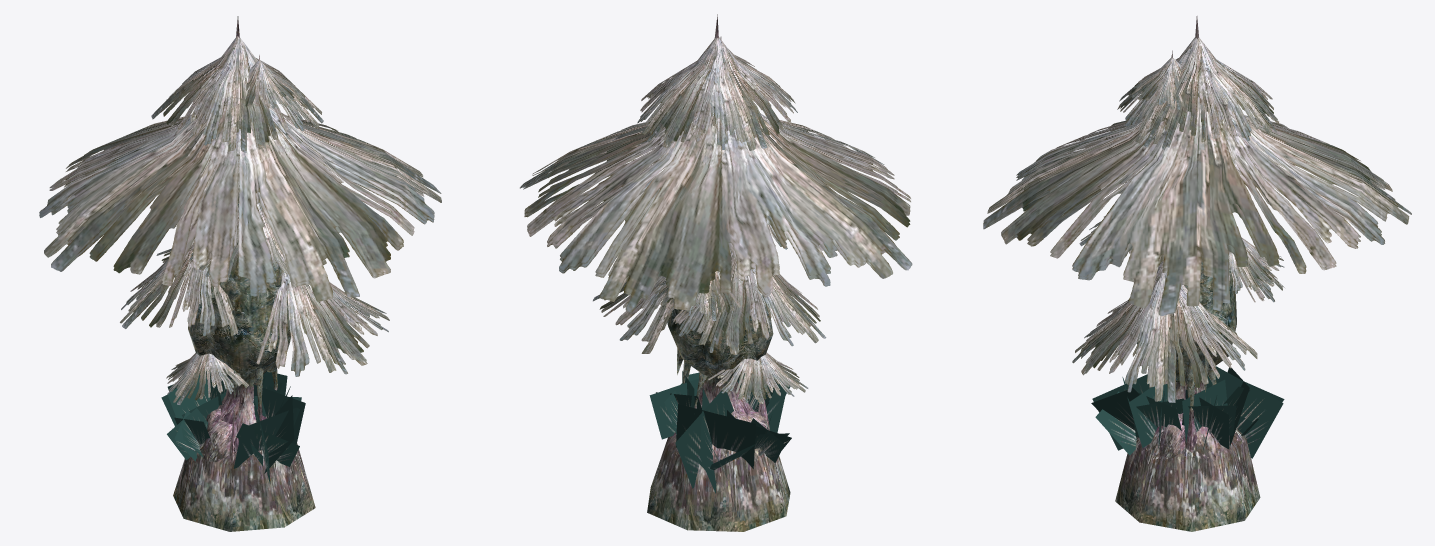
The model's file is rock_crystl_tree_sm_l0.fbx.
The picture shows the model from 3 angles, left to right: view 1: azimuth 30°, elevation 25°; view 2: azimuth 150°, elevation 25°; view 3: azimuth 270°, elevation 25°; orthographic projection.
Parts seen in each view (by area): view 1: mesh_node; view 2: mesh_node; view 3: mesh_node.
Boxes of the visible parts, x1,y1,x2,y2 form: mesh_node: [39, 16, 441, 531]; mesh_node: [520, 14, 912, 531]; mesh_node: [983, 16, 1411, 531].
Bounding box in the file's own units: 16.05 × 19.16 × 16.05.
